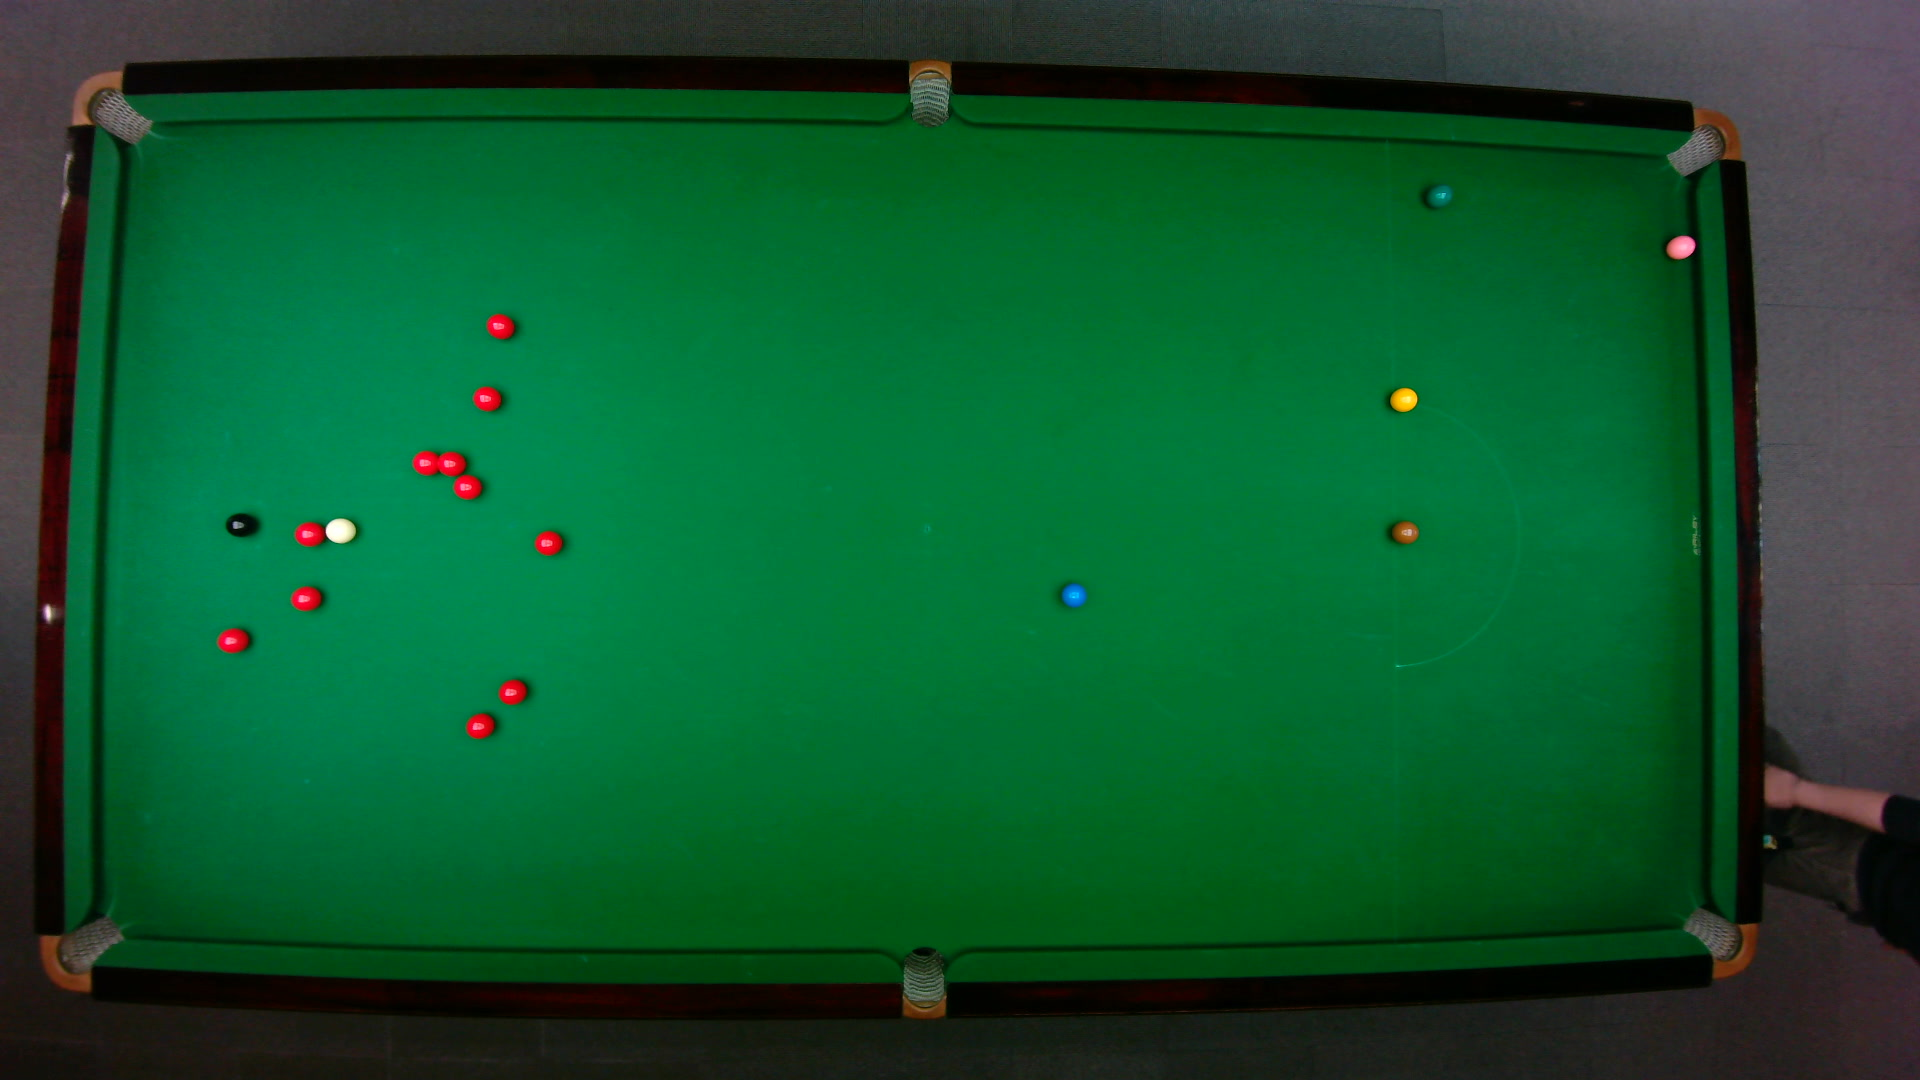bag: (38, 914, 125, 992), (69, 69, 152, 145), (1679, 905, 1756, 978), (1663, 107, 1741, 177), (901, 944, 944, 1021), (909, 57, 949, 128)
black: (223, 512, 255, 537)
blue: (1058, 580, 1087, 608)
brown: (1389, 520, 1419, 543)
green: (1423, 182, 1453, 208)
pink: (1663, 232, 1697, 260)
red: (287, 583, 323, 612), (214, 625, 251, 653), (496, 676, 527, 705), (291, 520, 324, 547), (463, 711, 496, 738), (471, 384, 502, 411), (484, 311, 516, 339), (450, 472, 483, 498), (533, 529, 563, 556), (410, 448, 440, 475), (436, 448, 465, 475)
white: (323, 516, 357, 545)
yellow: (1387, 385, 1418, 411)
zone: (1390, 400, 1520, 667)
